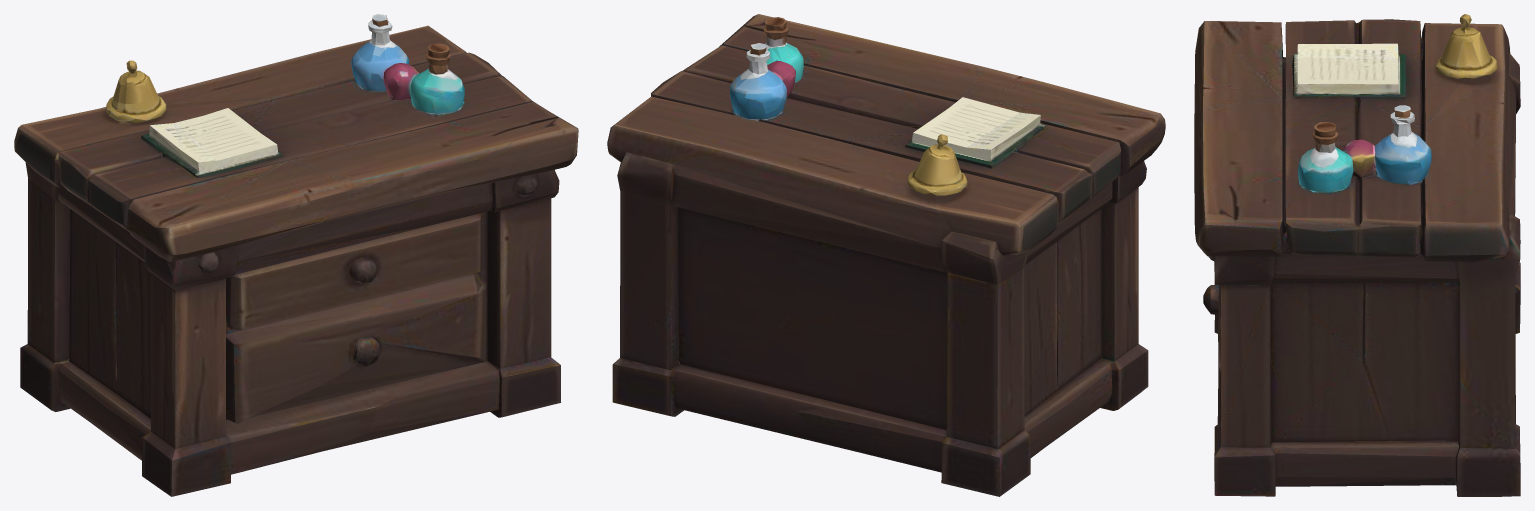
Rendered from counter.glb.
3 views of the same model, side by side, from view 1: azimuth 30°, elevation 25°; view 2: azimuth 150°, elevation 25°; view 3: azimuth 270°, elevation 25° (orthographic). The views are drawn at different scales.
Visible parts, largest first — view 1: counter; view 2: counter; view 3: counter.
Part boxes in pixels (left/top/right/bottom): counter: left=14, top=14, right=578, bottom=496; counter: left=607, top=14, right=1165, bottom=496; counter: left=1194, top=14, right=1520, bottom=496.
Bounding box in the file's own units: 1.4 × 1.1 × 0.9369.
1 material, 1 textured.
